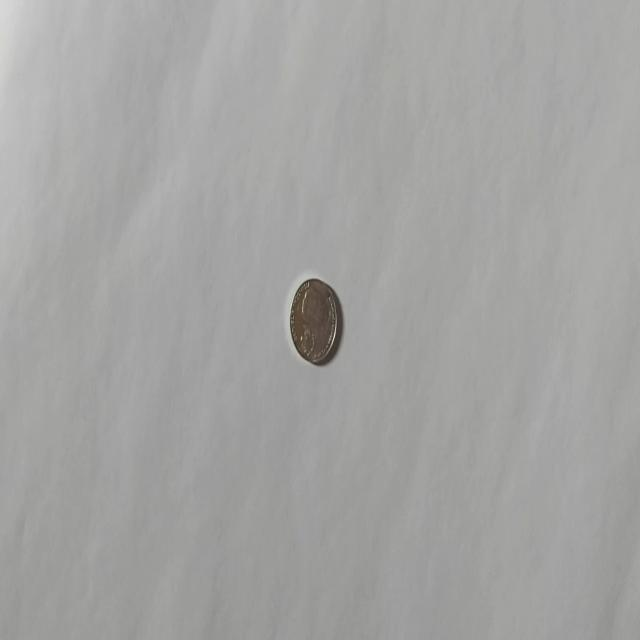seratus rupiah: (288, 276, 338, 366)
